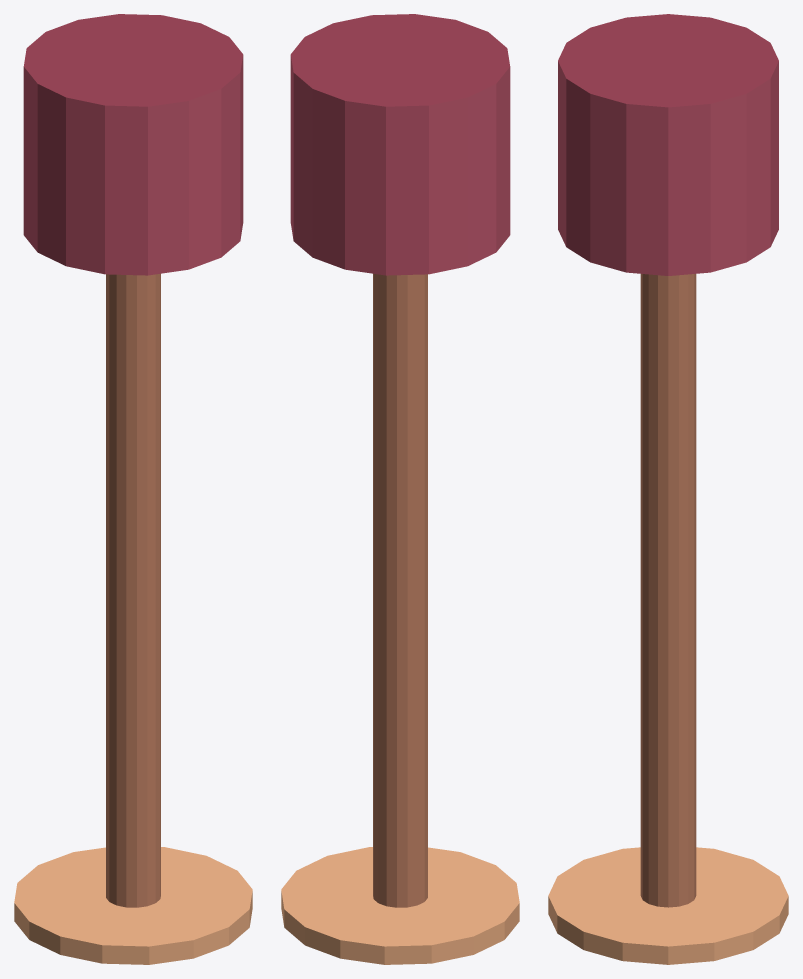
Rendered from BigLamp1.glb.
The picture shows the model from 3 angles, left to right: view 1: azimuth 30°, elevation 25°; view 2: azimuth 150°, elevation 25°; view 3: azimuth 270°, elevation 25°; orthographic projection.
Parts seen in each view (by area): view 1: BigLamp1; view 2: BigLamp1; view 3: BigLamp1.
Boxes of the visible parts, <box> form: BigLamp1: <box>14,14,252,964</box>; BigLamp1: <box>281,14,519,964</box>; BigLamp1: <box>548,14,788,964</box>.
Bounding box in the file's own units: 0.2891 × 1.13 × 0.2891.
1 material, 1 textured.
